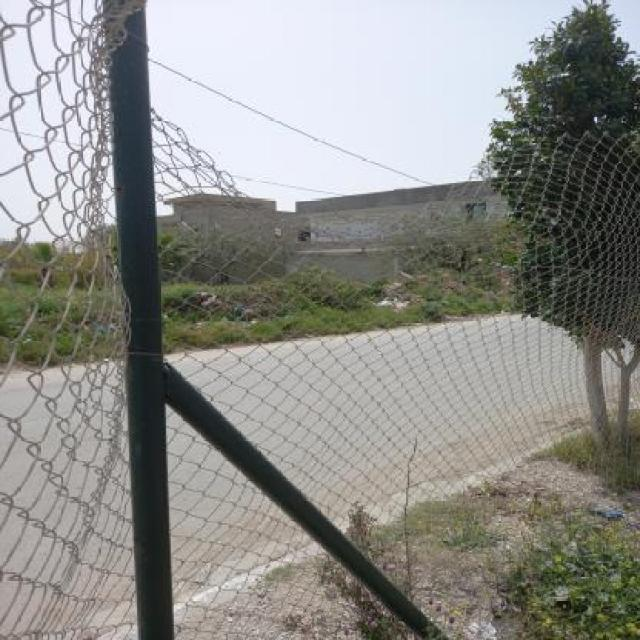fence line: (187, 128, 491, 242)
